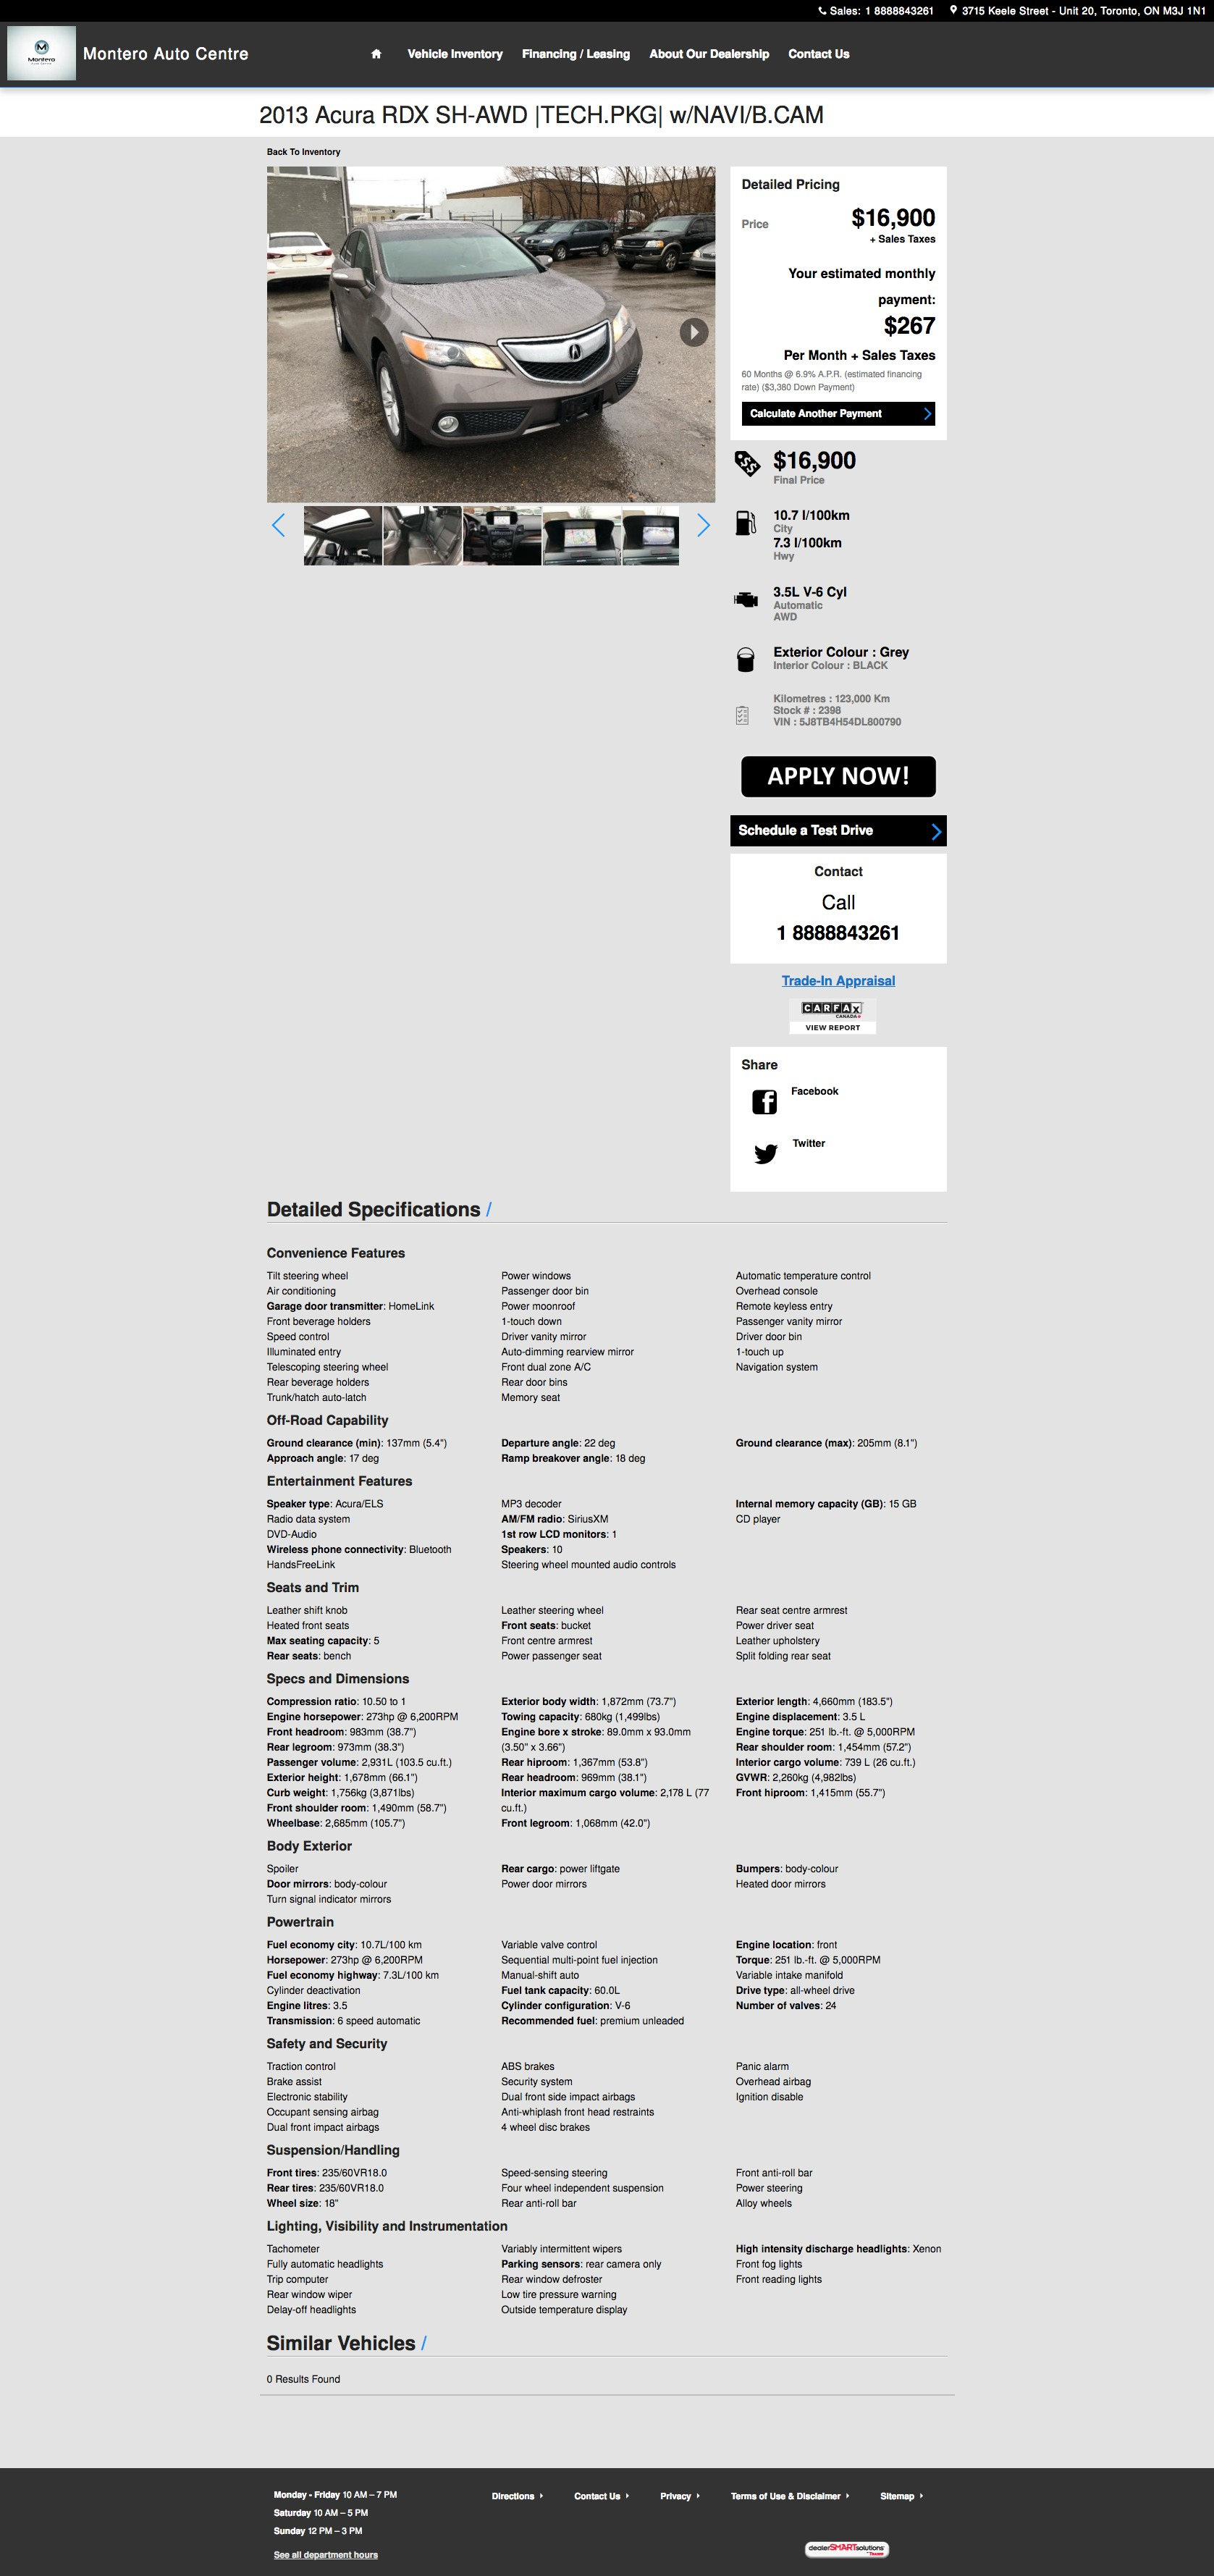car: (697, 513, 713, 539)
